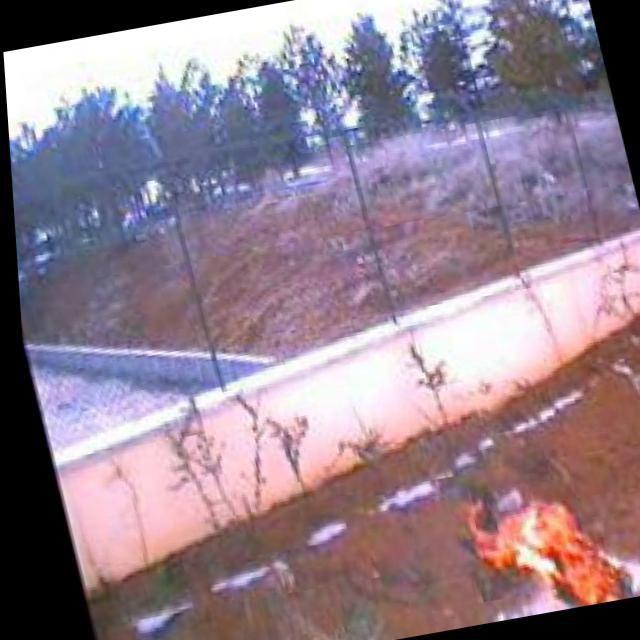fire: (448, 473, 632, 623)
